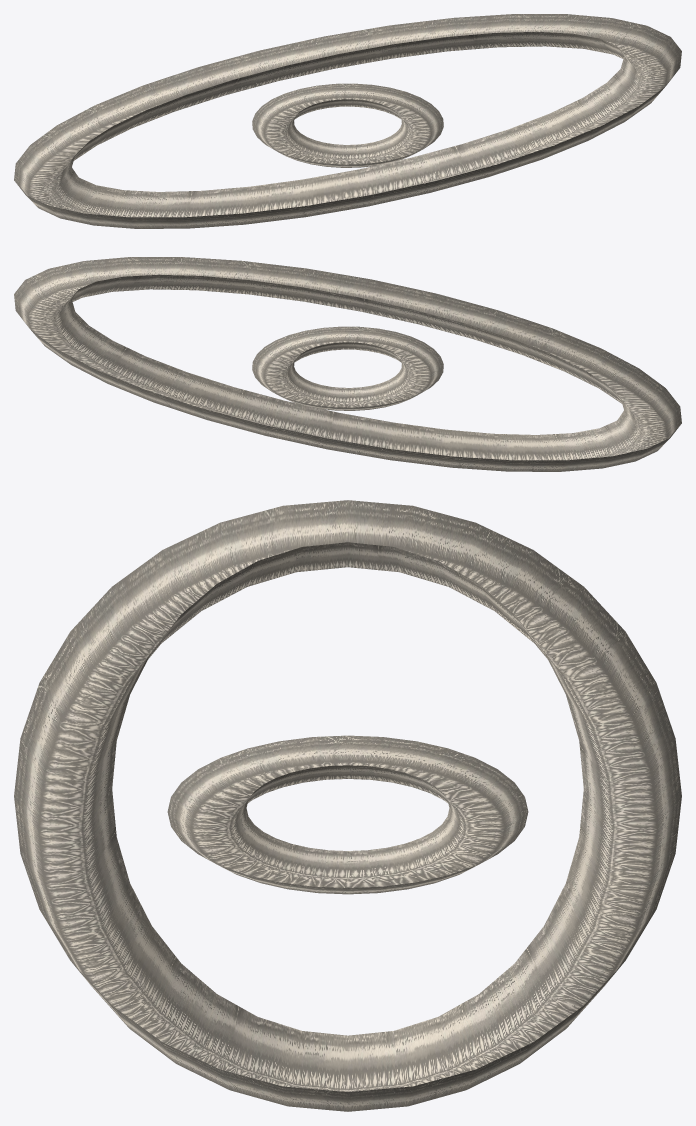
Rendered from CeilingRounds.fbx.
The picture shows the model from 3 angles, top to bottom: view 1: azimuth 30°, elevation 25°; view 2: azimuth 150°, elevation 25°; view 3: azimuth 270°, elevation 25°; orthographic projection. The views are drawn at different scales.
Parts seen in each view (by area): view 1: Ceiling Oval, Ceiling Ring; view 2: Ceiling Oval, Ceiling Ring; view 3: Ceiling Oval, Ceiling Ring.
Part boxes in pixels (<box>): Ceiling Oval: <box>14,14,681,228</box>; Ceiling Ring: <box>252,83,443,167</box>; Ceiling Oval: <box>14,257,681,471</box>; Ceiling Ring: <box>252,326,443,410</box>; Ceiling Oval: <box>14,500,681,1111</box>; Ceiling Ring: <box>167,735,528,894</box>.
Size of the model in its own units: 1686 by 51.92 by 804.
